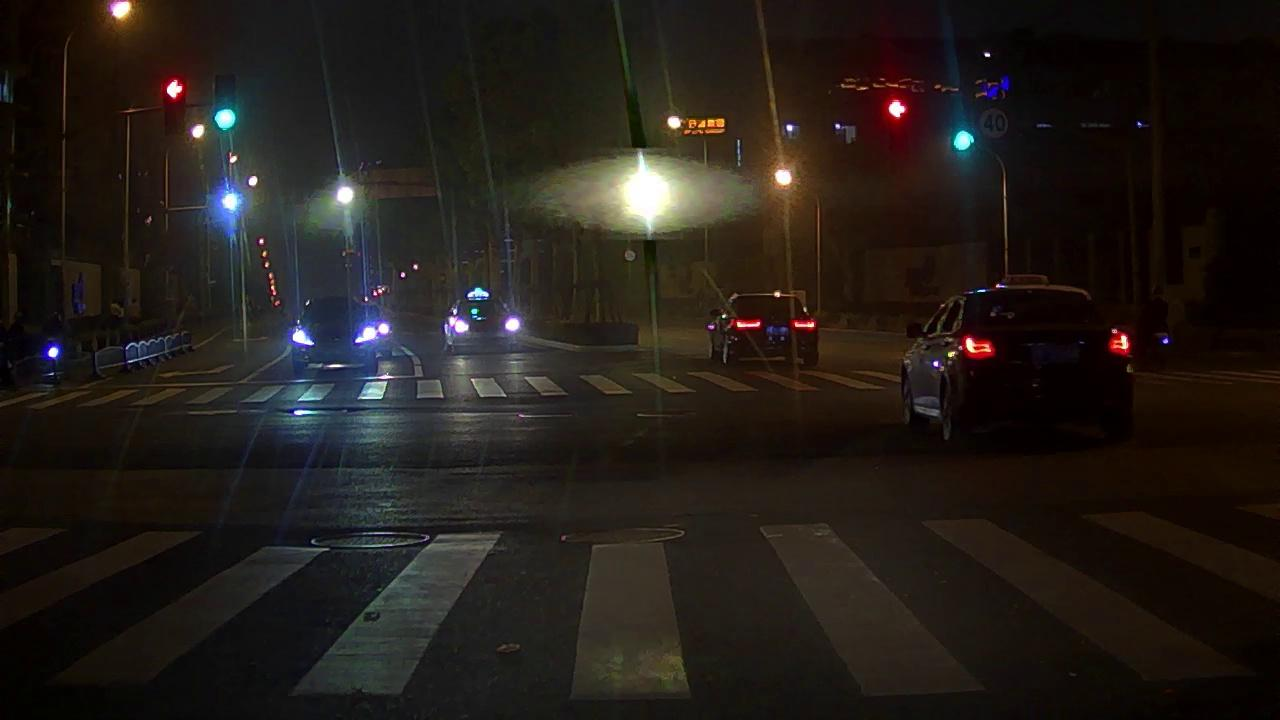traffic_light: (214, 75, 234, 129), (164, 78, 184, 129), (886, 99, 907, 119), (955, 131, 973, 149)
